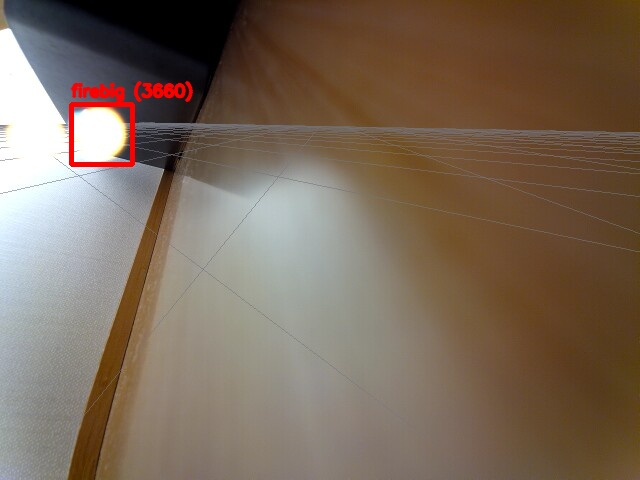firebig: (71, 104, 132, 164)
